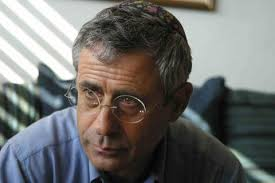middle_eastern_male: (74, 47, 175, 163)
